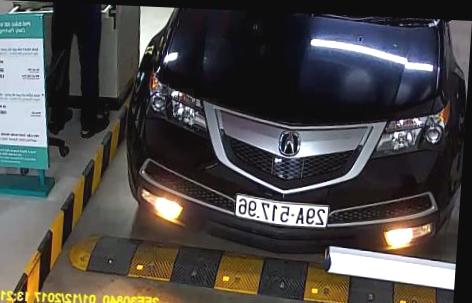License_Plate: (233, 195, 334, 225)
